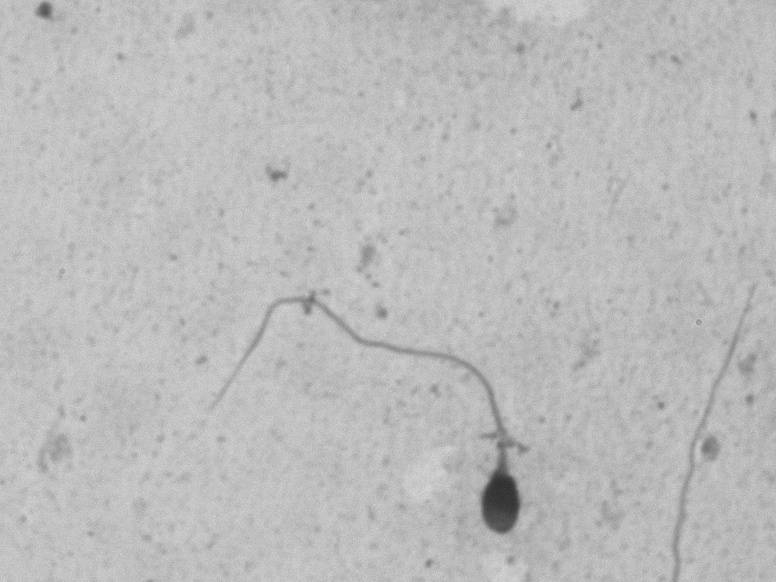Normal: (161, 289, 557, 556)
